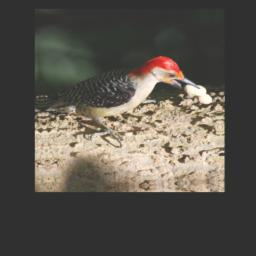Woodpecker: (40, 54, 204, 156)
